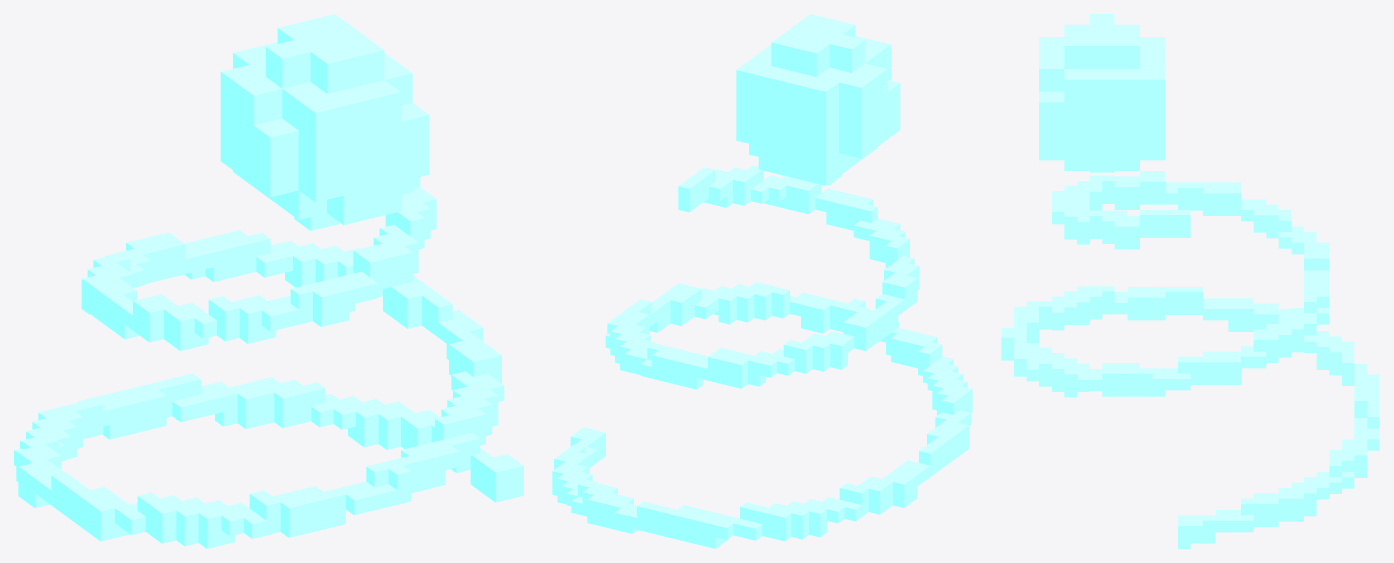
The model's file is ribbon.gltf.
3 renders of one model, left to right at view 1: azimuth 30°, elevation 25°; view 2: azimuth 150°, elevation 25°; view 3: azimuth 270°, elevation 25°, orthographic. The views are drawn at different scales.
Parts seen in each view (by area): view 1: 电波.1; view 2: 电波.1; view 3: 电波.1.
Boxes of the visible parts, <box> form: 电波.1: <box>14,14,523,548</box>; 电波.1: <box>552,14,972,548</box>; 电波.1: <box>1001,14,1379,548</box>.
Size of the model in its own units: 1.92 by 2.22 by 1.8.
